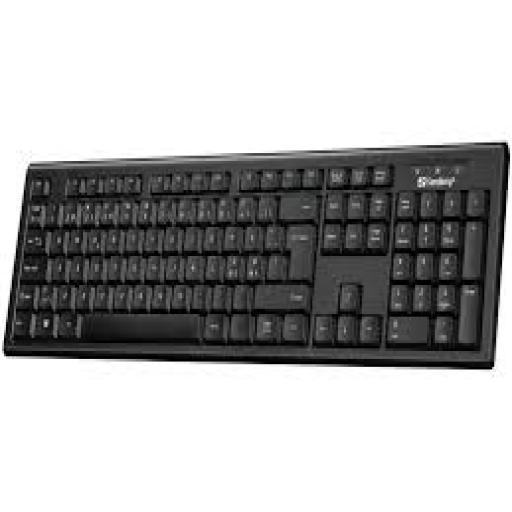keyboard: (4, 145, 506, 364)
